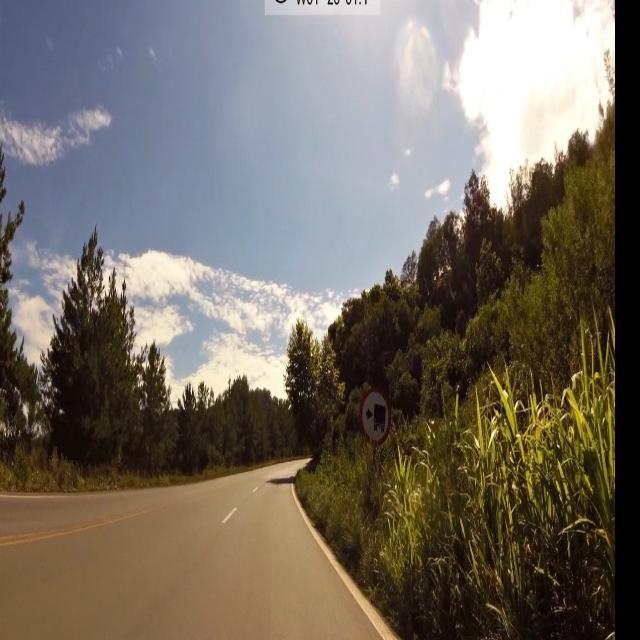R-27: (362, 384, 389, 452)
